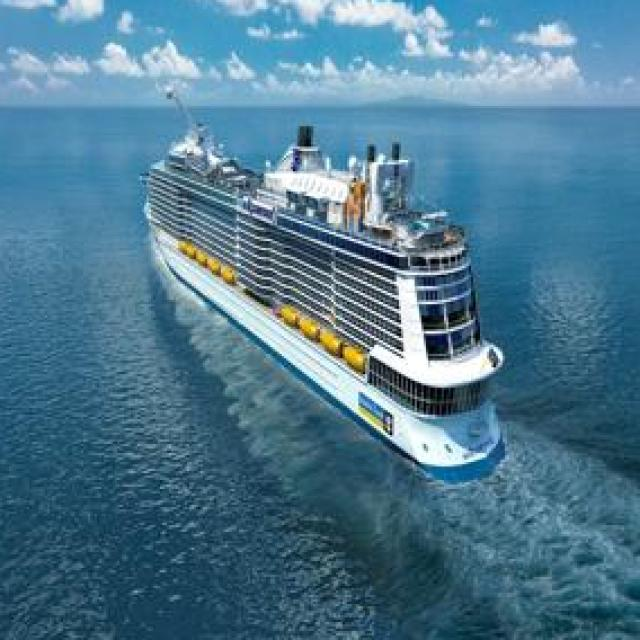passenger ship: (133, 102, 516, 466)
